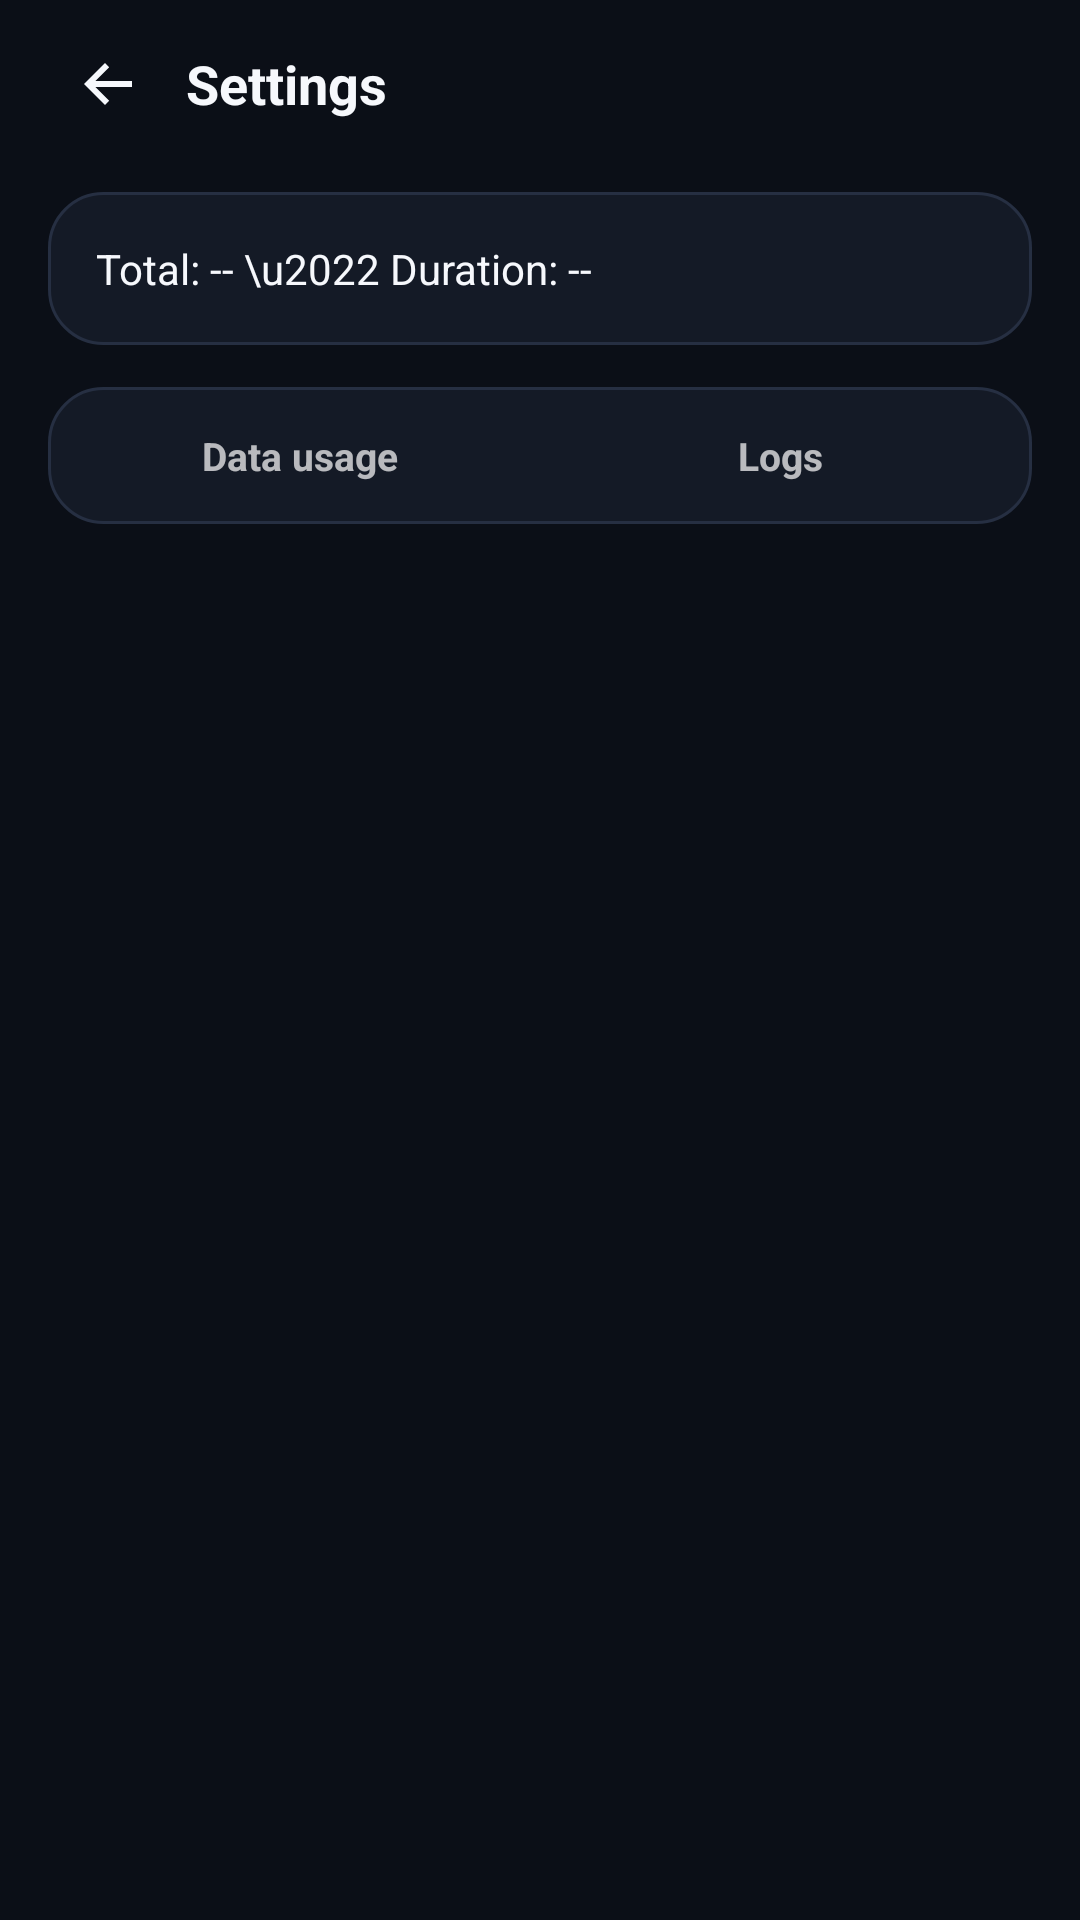

Screen size 1080*1920. Icon name, then its center in pixels as point (x, y):
back: point (108, 84)
